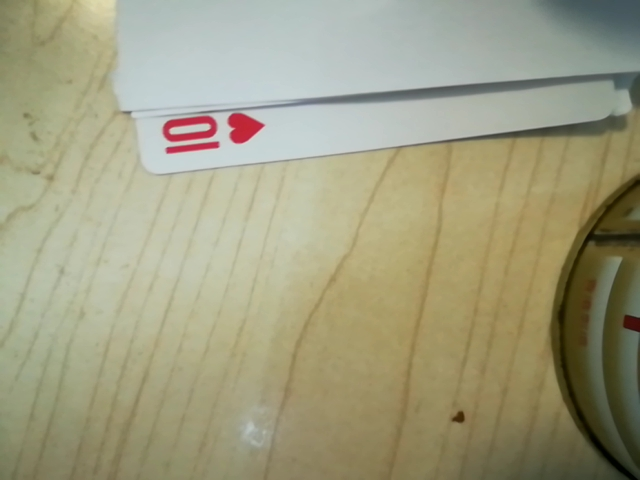hx 10: (148, 104, 266, 162)
